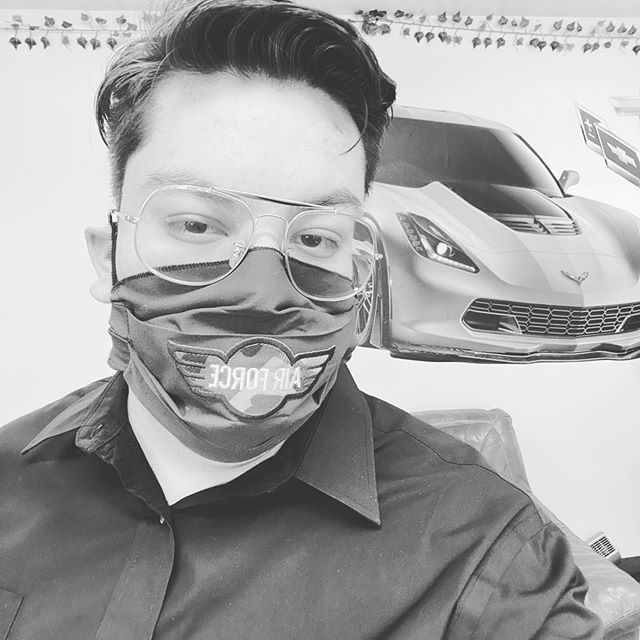homemade: (93, 255, 362, 462)
